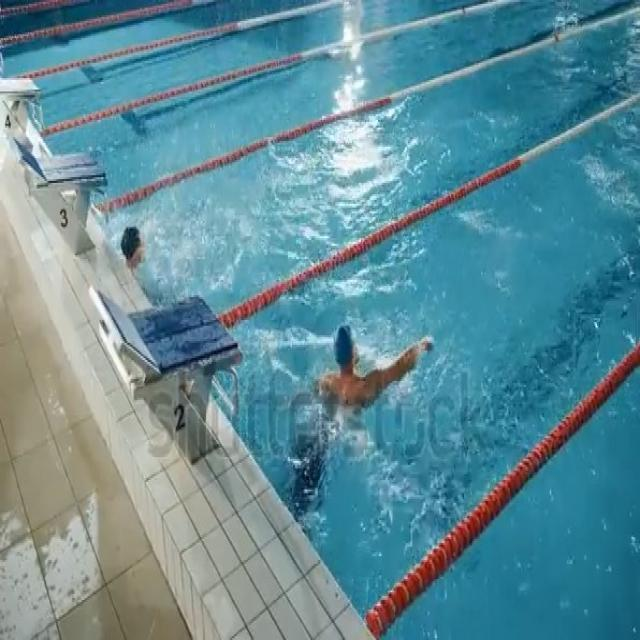swimming: (322, 316, 422, 424), (117, 217, 146, 273)
